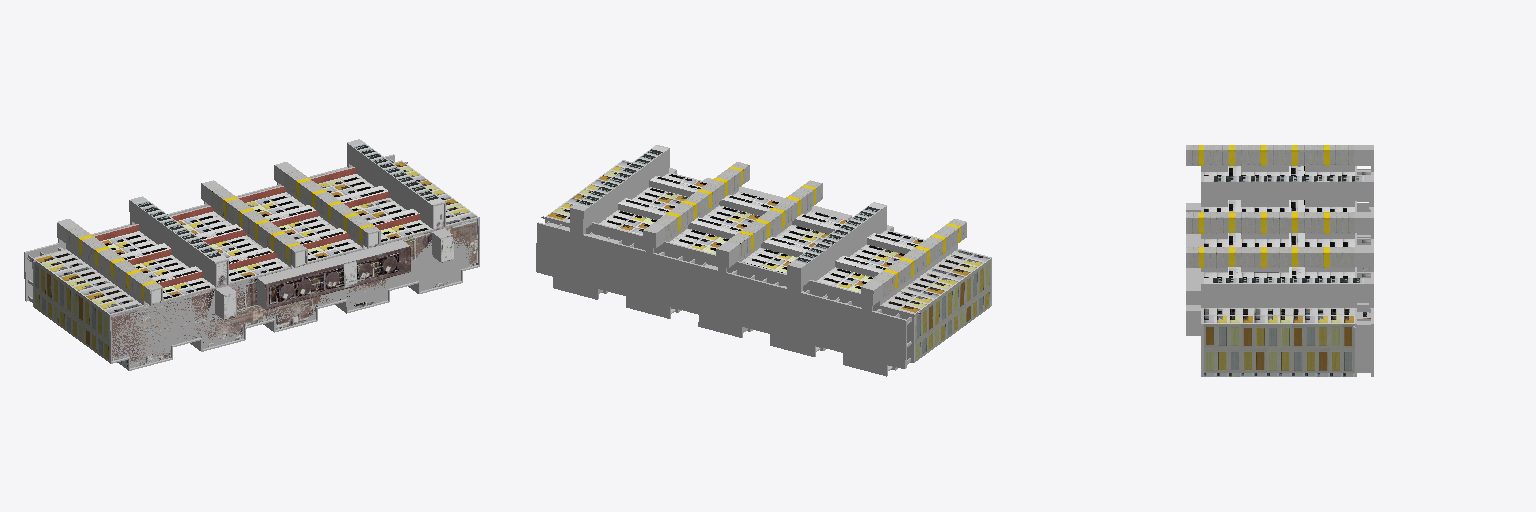
3 views of the same model, side by side, from view 1: azimuth 30°, elevation 25°; view 2: azimuth 150°, elevation 25°; view 3: azimuth 270°, elevation 25° (orthographic).
Parts seen in each view (by area): view 1: polygon.797; view 2: polygon.797; view 3: polygon.797.
Boxes of the visible parts, x1=… form: polygon.797: x1=24, y1=139, x2=479, y2=370; polygon.797: x1=536, y1=145, x2=991, y2=376; polygon.797: x1=1186, y1=145, x2=1373, y2=376.
Size of the model in its own units: 93.84 by 21.78 by 40.39.
Materials: 1 (1 with a texture image).